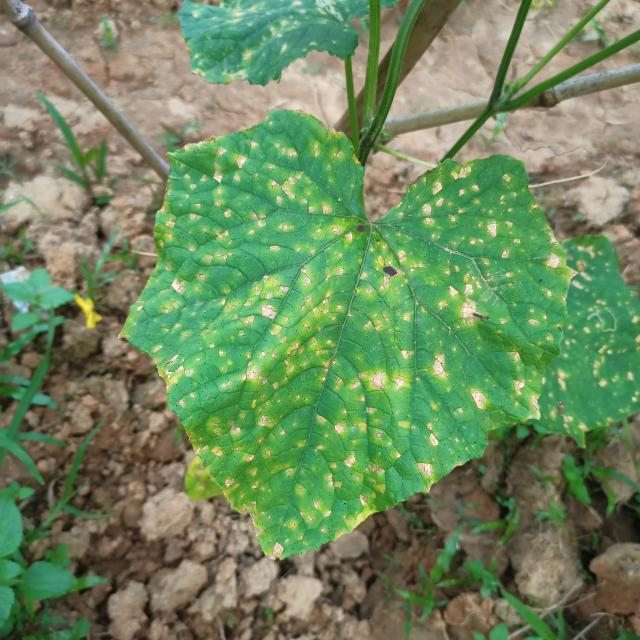disease_cucumber: (147, 127, 546, 530), (549, 247, 640, 423)
